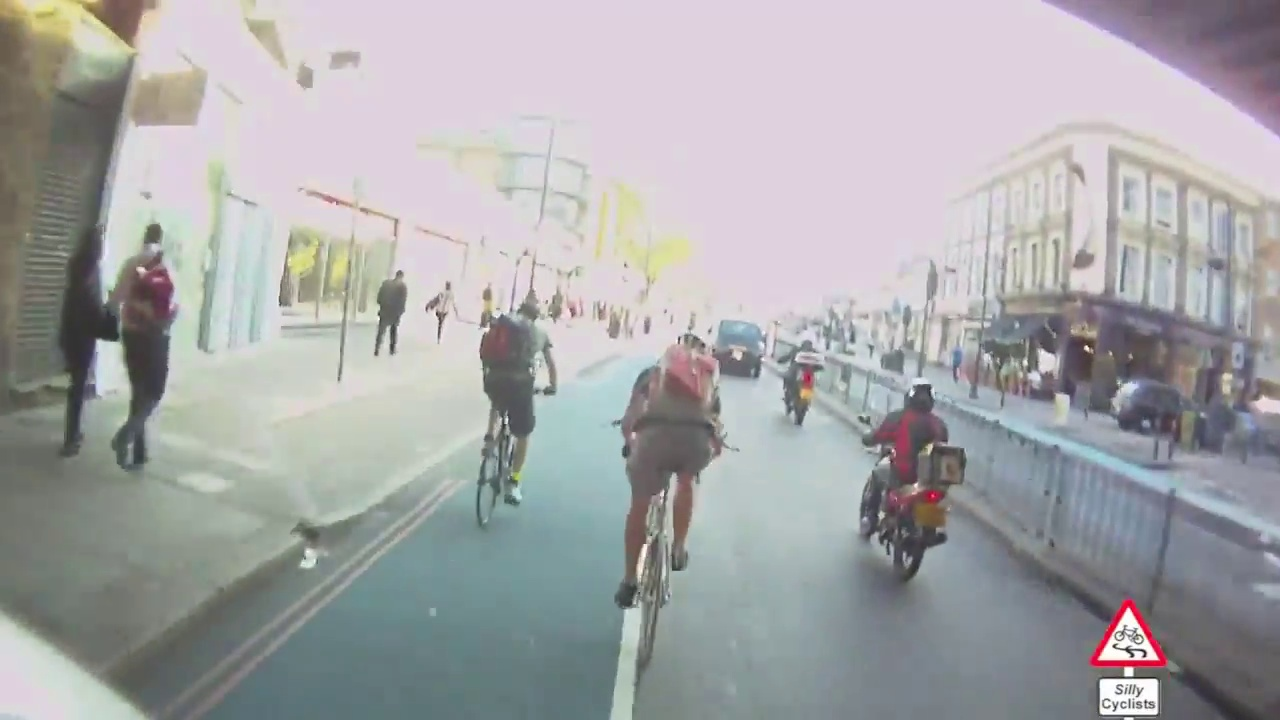cyclist_back: (614, 322, 721, 672), (854, 376, 966, 584), (472, 289, 563, 536), (779, 337, 825, 431)
